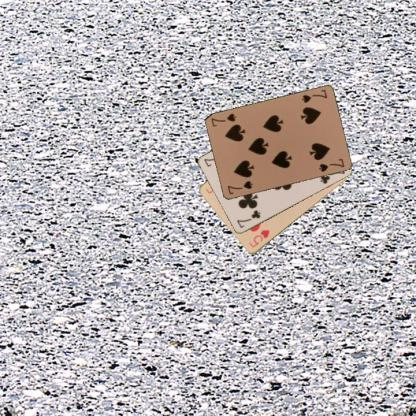5h: (247, 227, 272, 249)
7c: (234, 207, 262, 230)
7s: (224, 178, 254, 196), (299, 87, 328, 105)
